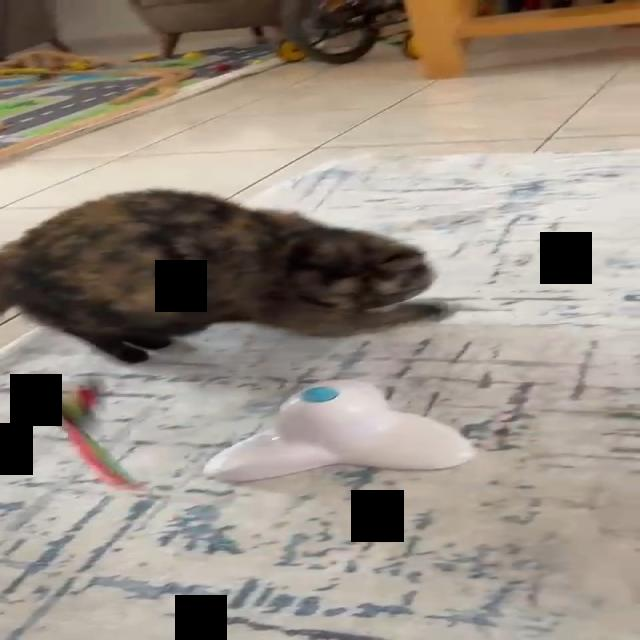authorized: (0, 187, 445, 363)
